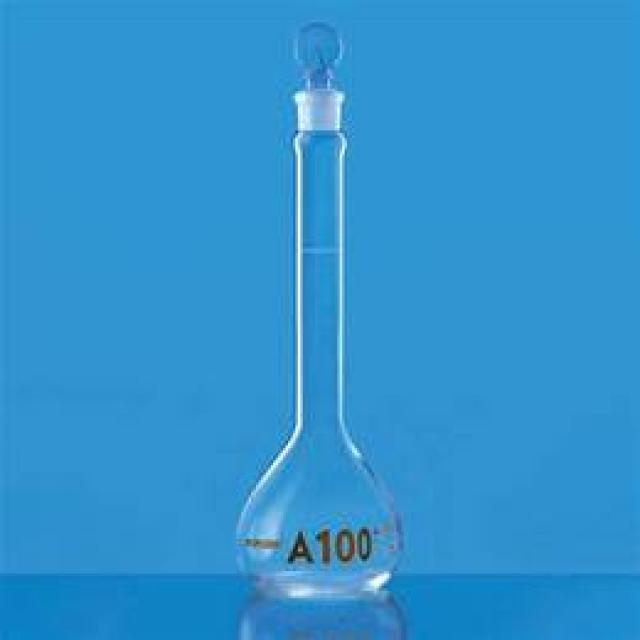Volumetric flask: (216, 11, 411, 605)
